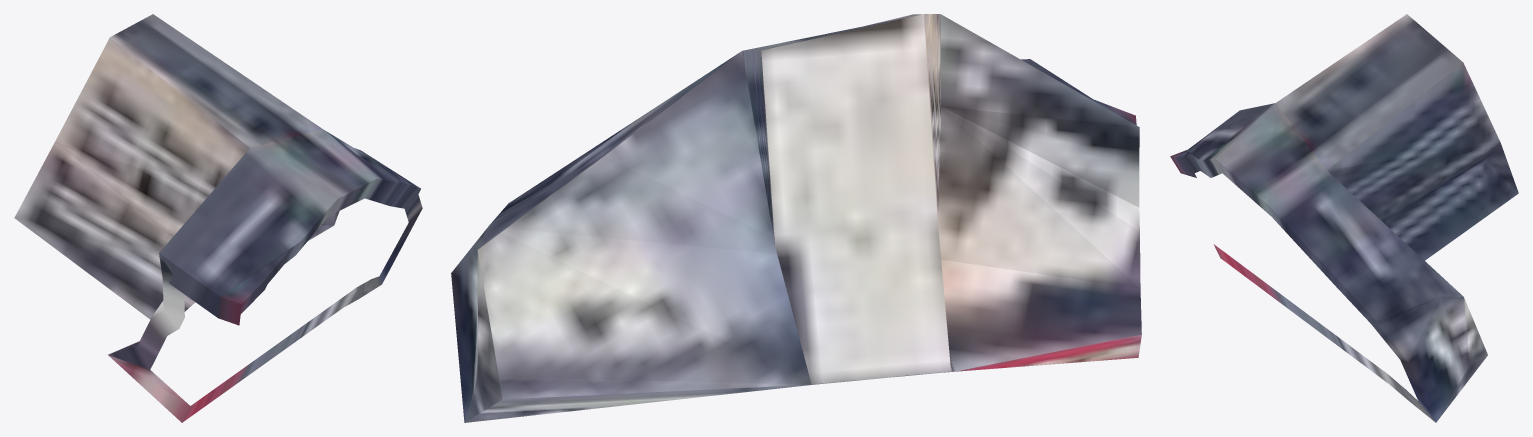
3 views of the same model, side by side, from view 1: azimuth 30°, elevation 25°; view 2: azimuth 150°, elevation 25°; view 3: azimuth 270°, elevation 25° (orthographic). The views are drawn at different scales.
Size of the model in its own units: 17.88 by 14.57 by 16.07.
1 material, 1 textured.
